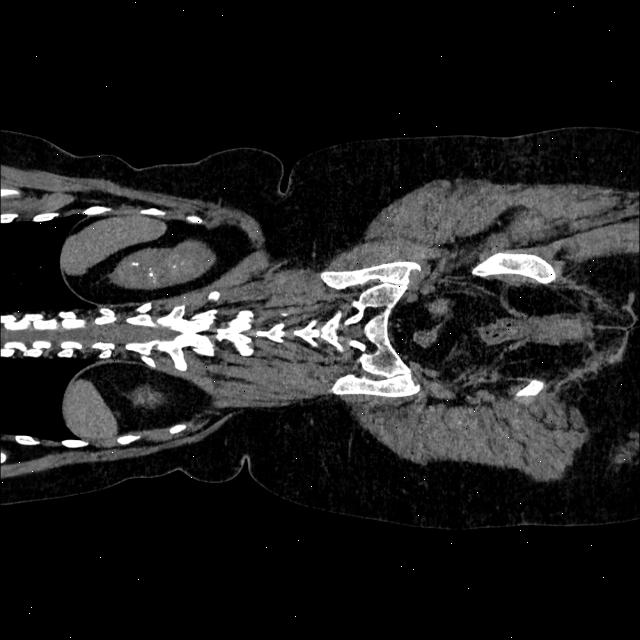kidneystone: (148, 268, 153, 276), (131, 261, 138, 265)
